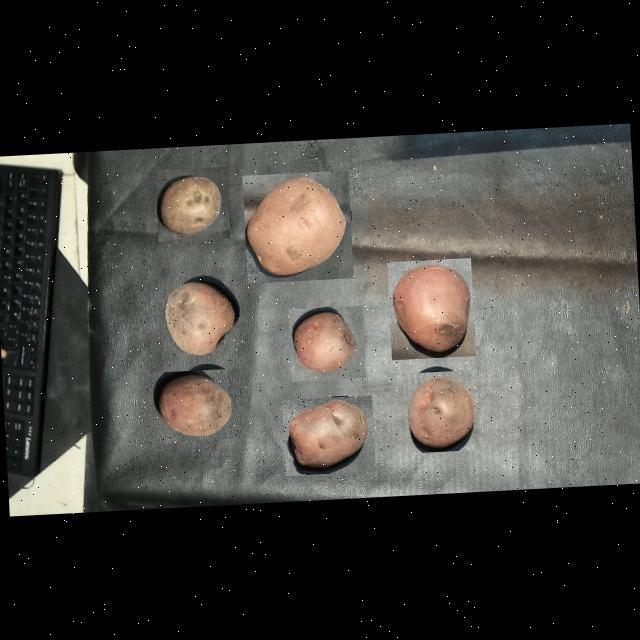potato: (242, 171, 354, 284), (387, 258, 476, 360), (282, 395, 376, 476), (157, 276, 243, 361), (153, 369, 243, 443), (403, 370, 481, 454), (288, 306, 366, 382), (155, 167, 231, 243)
